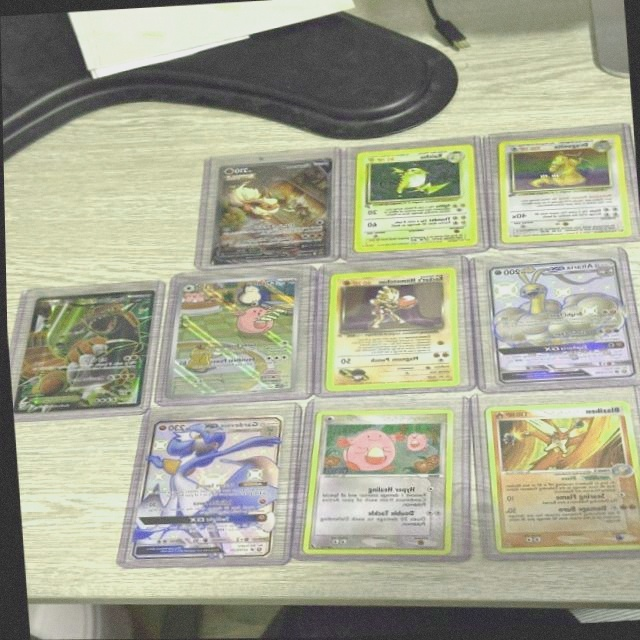card: (481, 401, 640, 557), (124, 414, 282, 563), (298, 410, 452, 557), (482, 257, 636, 388), (322, 268, 463, 395), (12, 290, 151, 415), (160, 276, 299, 400), (496, 135, 630, 244), (349, 144, 476, 254), (208, 158, 332, 266)
